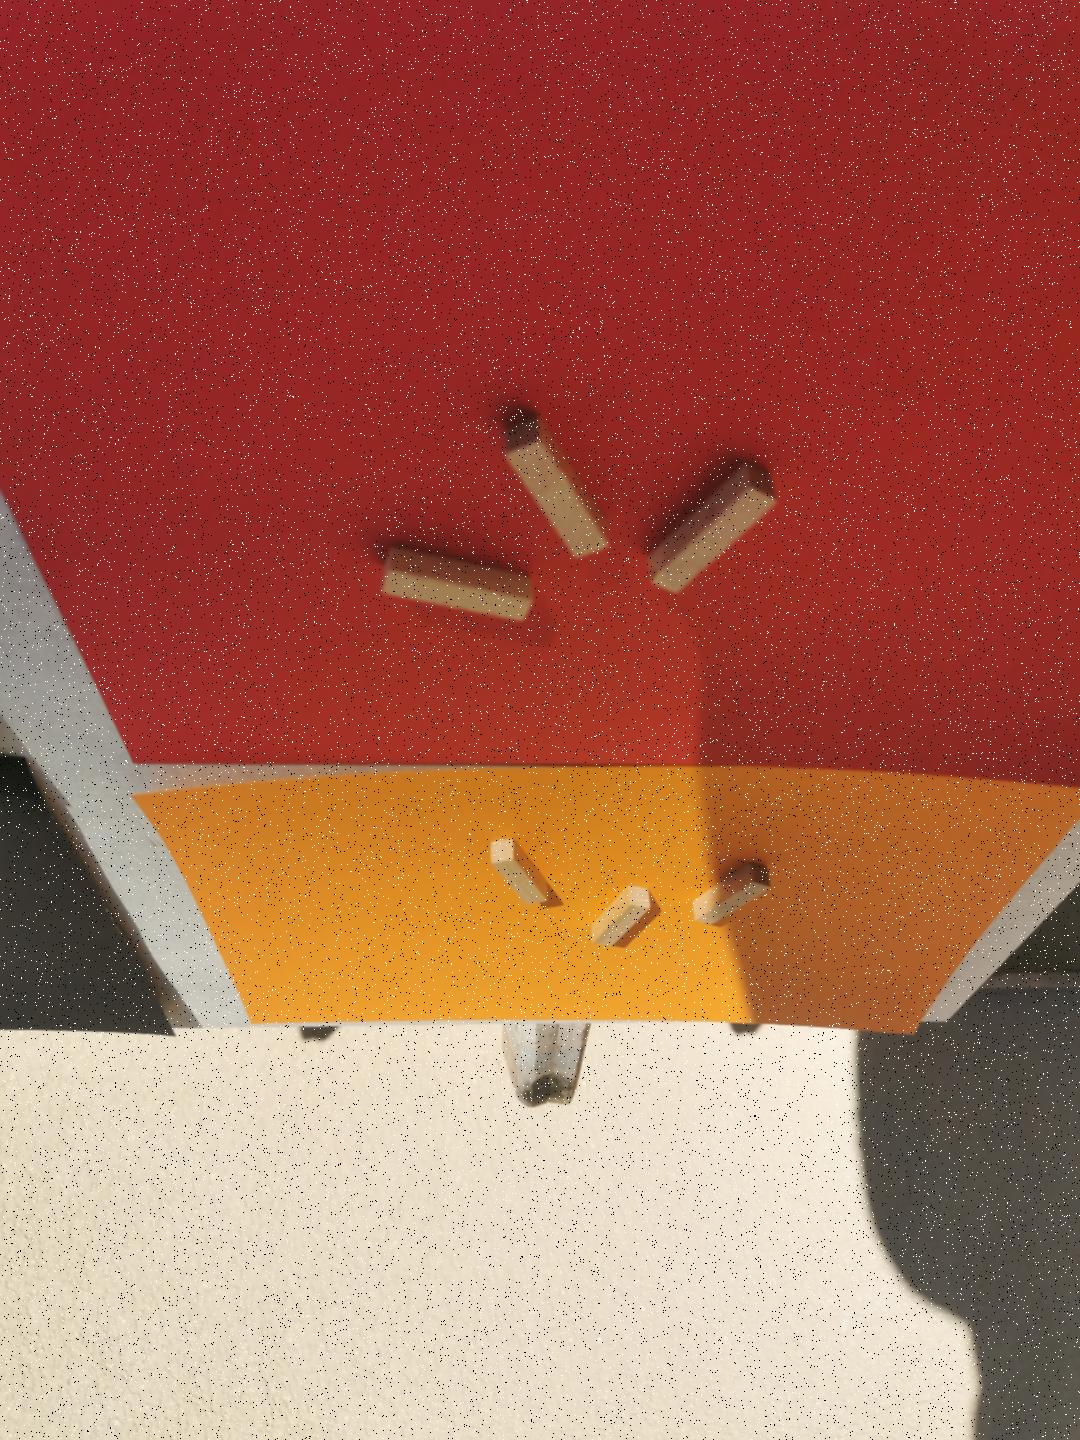jenga: (650, 464, 776, 593), (506, 416, 608, 557), (382, 549, 532, 621), (694, 864, 770, 925), (489, 838, 548, 903), (591, 886, 650, 945)
